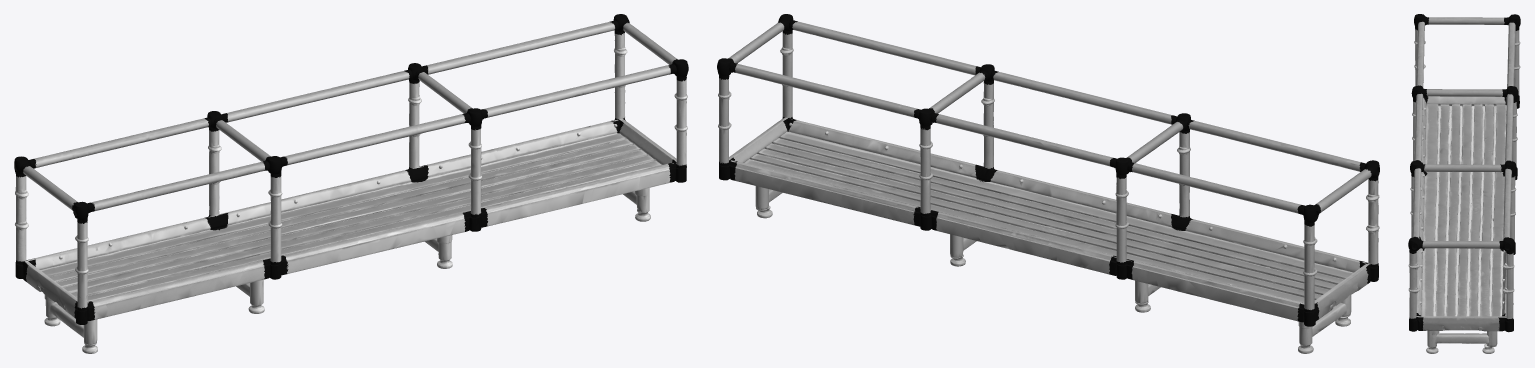
Rendered from zatla-rolling-room.glb.
3 renders of one model, left to right at view 1: azimuth 30°, elevation 25°; view 2: azimuth 150°, elevation 25°; view 3: azimuth 270°, elevation 25°, orthographic. The views are drawn at different scales.
Parts seen in each view (by area): view 1: model; view 2: model; view 3: model.
Boxes of the visible parts, left/top/right/bottom form: model: left=14, top=14, right=688, bottom=353; model: left=717, top=14, right=1379, bottom=353; model: left=1408, top=14, right=1520, bottom=353.
Bounding box in the file's own units: 4 × 0.9998 × 0.8316.
Materials: 1 (1 with a texture image).
